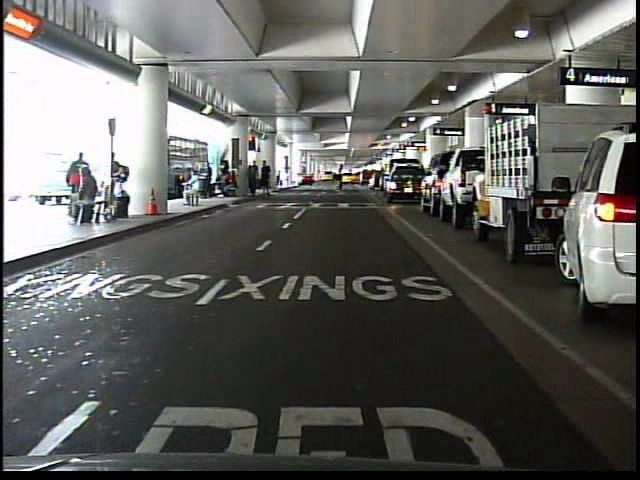person: (179, 171, 205, 209), (328, 161, 349, 194)
